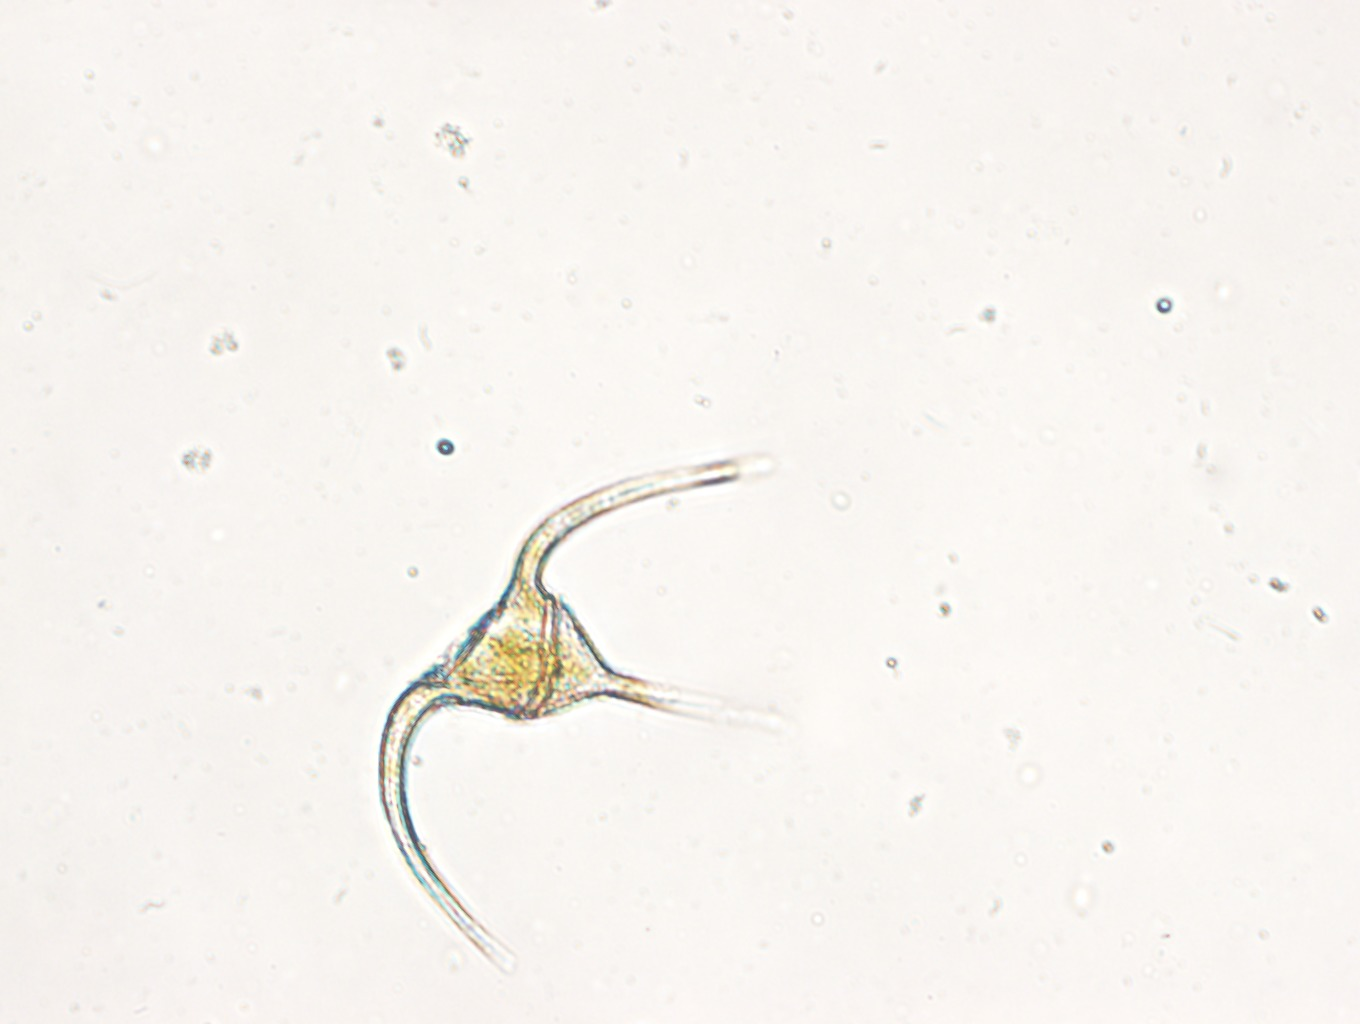ceratium trichoceros: (370, 447, 773, 975)
